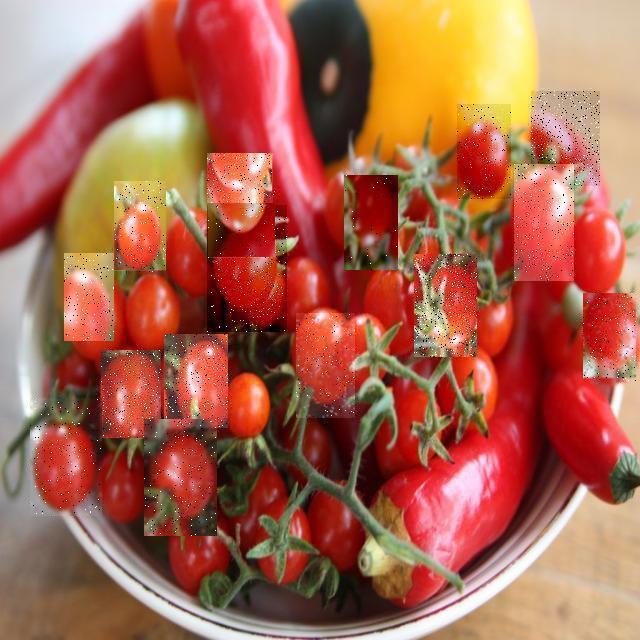Tomatoes: (207, 205, 287, 332), (144, 419, 217, 536), (31, 399, 103, 517), (208, 154, 276, 258), (514, 164, 574, 281), (531, 91, 600, 186), (414, 254, 477, 357), (296, 313, 355, 418), (164, 334, 228, 428), (101, 350, 161, 438), (457, 104, 511, 199), (344, 175, 398, 270), (115, 182, 167, 274), (583, 294, 636, 382), (64, 253, 114, 341)
